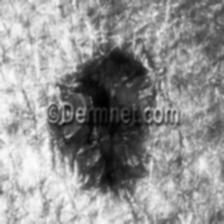Potentially Malignant Skin Tumors: (52, 46, 154, 194)
